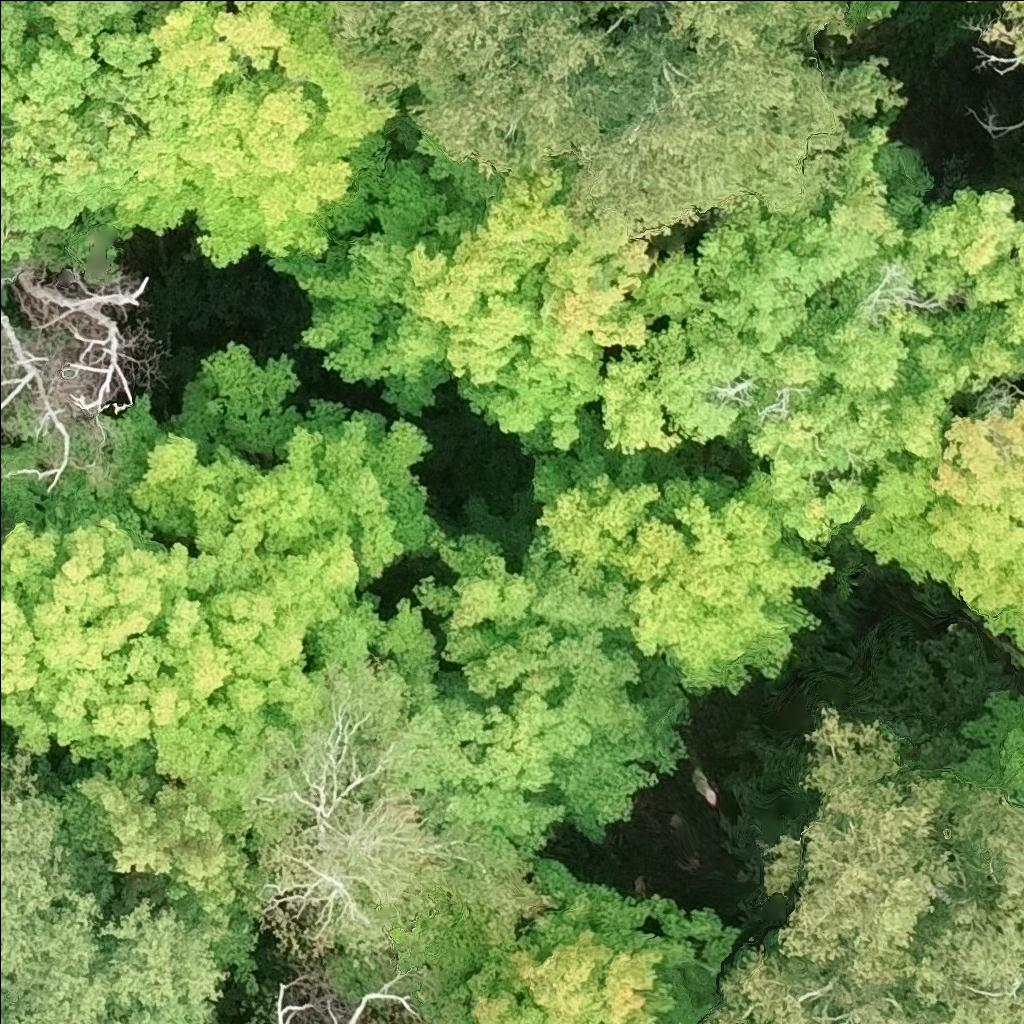crown: (0, 394, 370, 827), (602, 129, 1023, 501), (237, 684, 567, 967), (413, 527, 707, 843), (536, 453, 868, 690), (118, 0, 398, 266), (567, 20, 908, 238), (305, 590, 573, 865), (132, 345, 440, 584), (304, 170, 587, 423), (331, 0, 674, 182), (764, 707, 968, 981), (0, 24, 183, 274), (450, 864, 736, 1023), (855, 400, 1023, 651), (492, 213, 659, 451), (0, 266, 150, 491), (282, 132, 505, 283), (0, 752, 108, 1023), (918, 787, 1023, 1023), (703, 946, 948, 1023), (910, 191, 1023, 341), (89, 902, 229, 1023), (662, 0, 851, 45), (951, 691, 1023, 806), (0, 0, 175, 42), (983, 0, 1023, 60), (353, 993, 383, 1023), (611, 0, 648, 10), (562, 0, 602, 9), (967, 0, 975, 3)
